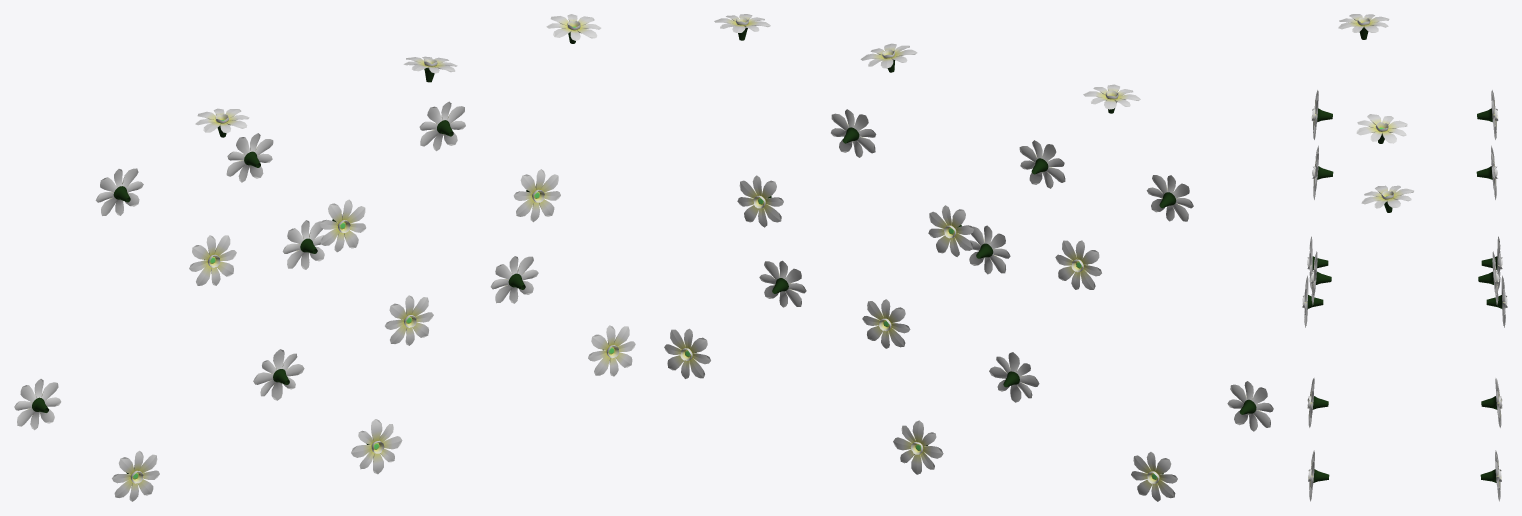
Rendered from hedgemaze_straight_closed_flowers.fbx.
The picture shows the model from 3 angles, left to right: view 1: azimuth 30°, elevation 25°; view 2: azimuth 150°, elevation 25°; view 3: azimuth 270°, elevation 25°; orthographic projection. The views are drawn at different scales.
Parts seen in each view (by area): view 1: pCube25; view 2: pCube25; view 3: pCube25.
Part boxes in pixels (x1,y1,x2,y2): pCube25: [14, 14, 635, 501]; pCube25: [664, 14, 1273, 501]; pCube25: [1302, 14, 1507, 501].
Bounding box in the file's own units: 4.12 × 2.76 × 1.47.
